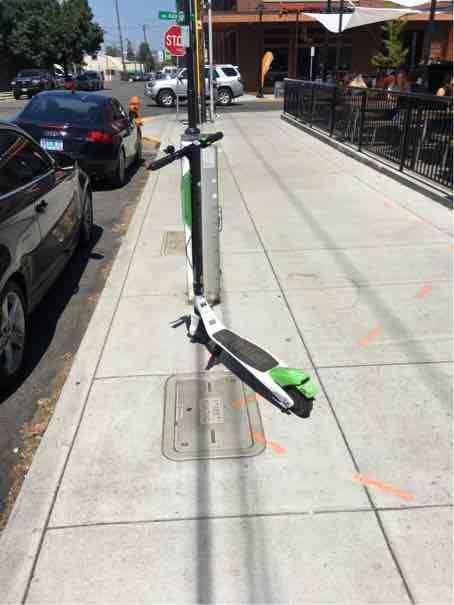scooter: (136, 120, 331, 420)
